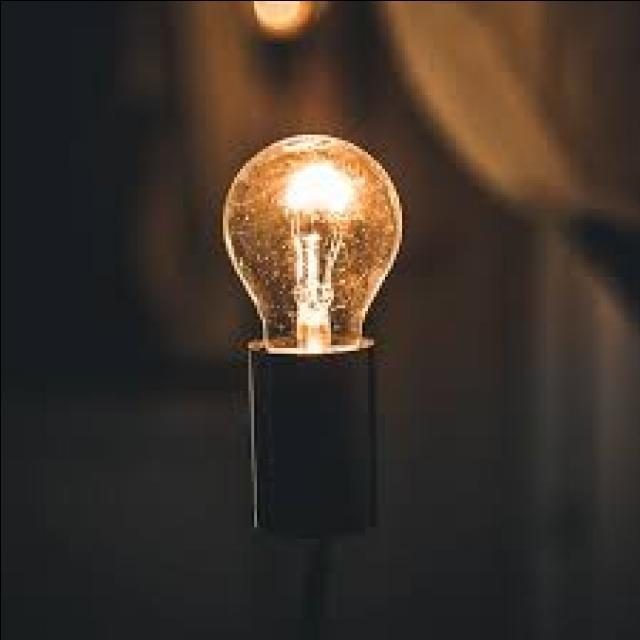light_bulb: (194, 122, 430, 548)
